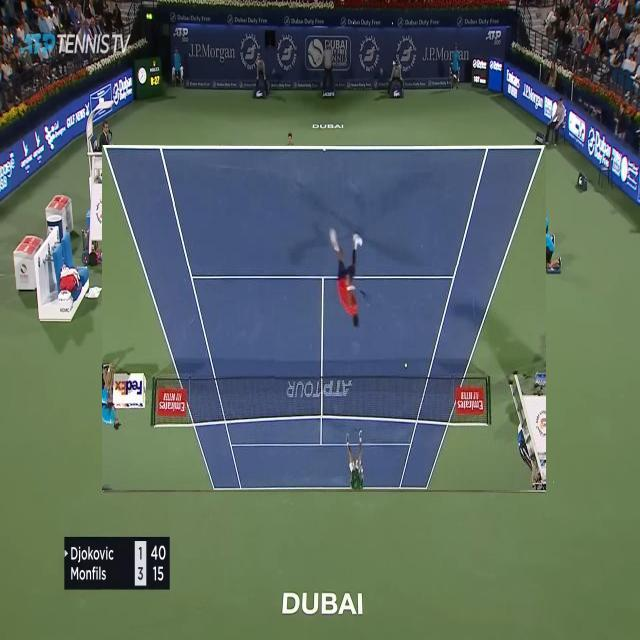court: (102, 146, 546, 492)
net: (156, 204, 500, 266)
player: (275, 306, 319, 408)
